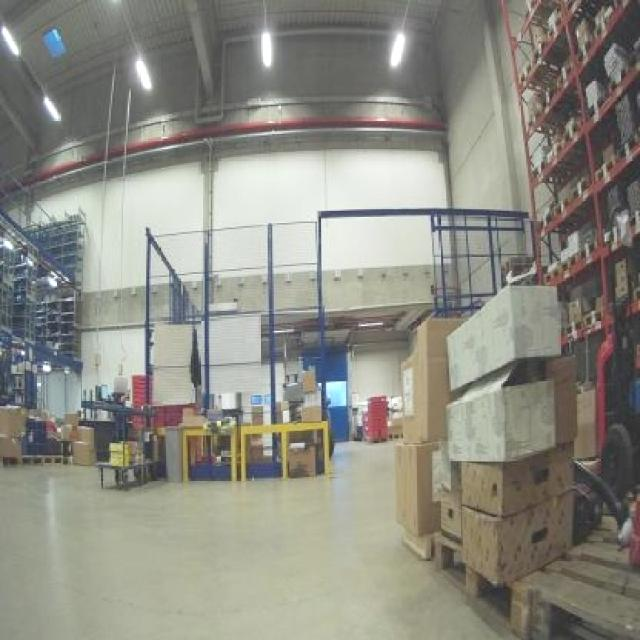pallets: (434, 285, 572, 592), (446, 285, 557, 388)
